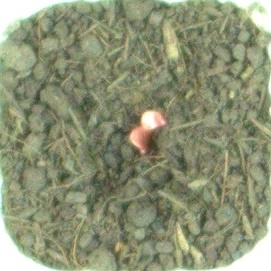pepper seed: (50, 47, 206, 204), (56, 44, 225, 175)
